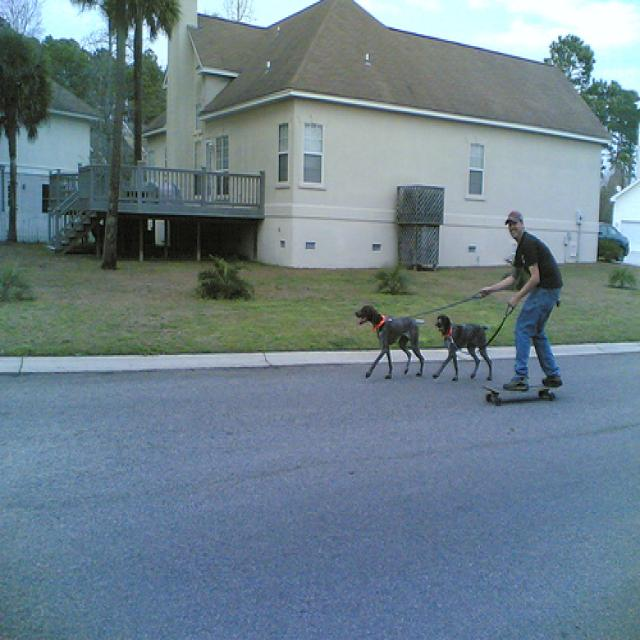Vehicle: (597, 221, 630, 262)
